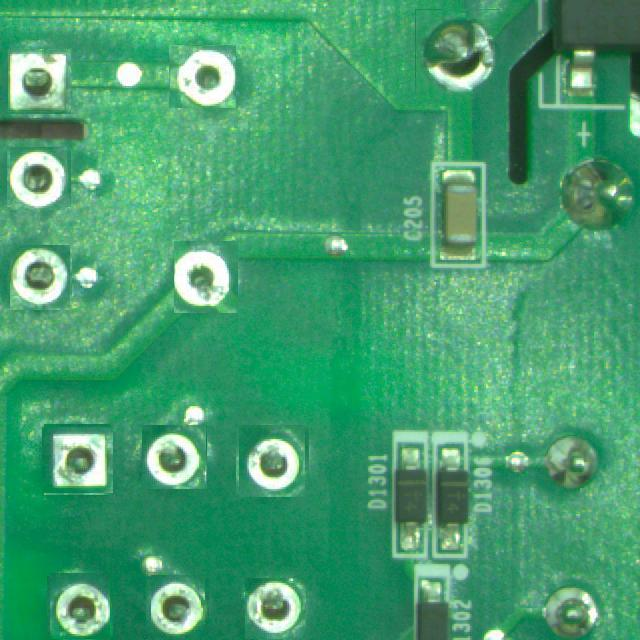lack_of_part: (415, 9, 500, 99), (238, 426, 307, 496), (43, 425, 112, 494), (172, 243, 241, 311), (169, 45, 236, 108), (8, 49, 72, 114), (142, 425, 207, 489), (48, 575, 112, 638), (8, 246, 71, 309), (245, 578, 306, 640), (9, 148, 69, 209), (148, 577, 207, 636)
